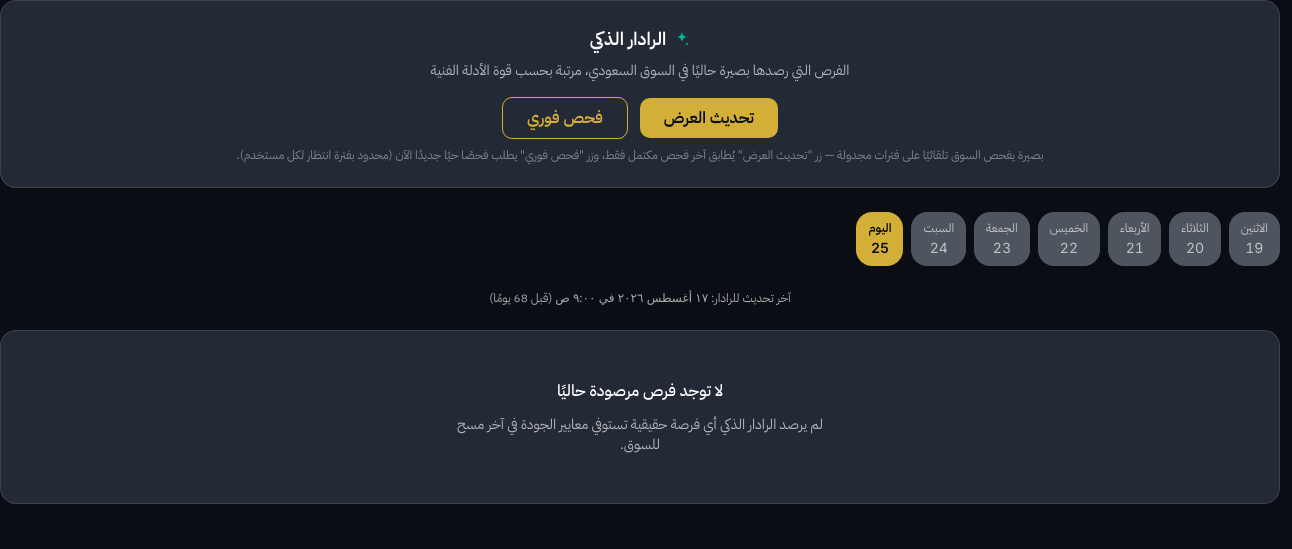
Test: RadarPage › on a quota-related refusal, shows the real backend reason, not a generic failure
Check: the text "لا توجد فرص مرصودة حاليًا" is shown, box left=557, top=379, right=723, bottom=403
Step 1. Click the button "فحص فوري" → x=565, y=118, box left=502, top=97, right=628, bottom=139
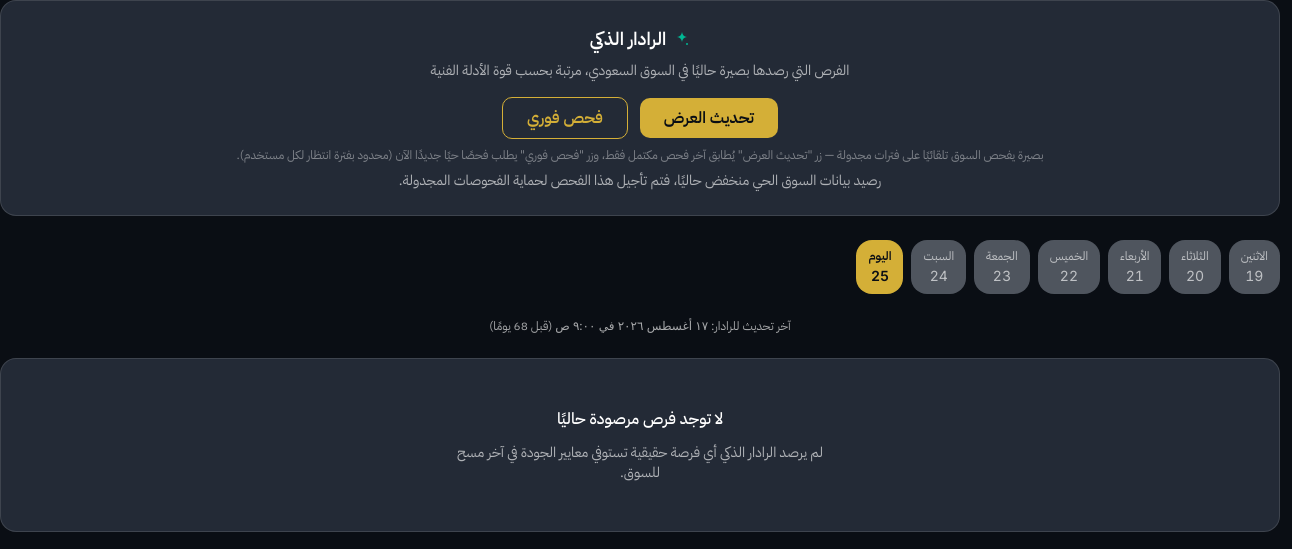
Check: the text "رصيد بيانات السوق الحي منخفض حاليًا، فتم تأجيل هذا الفحص لحماية الفحوصات المجدولة." is shown, box left=399, top=170, right=881, bottom=191
